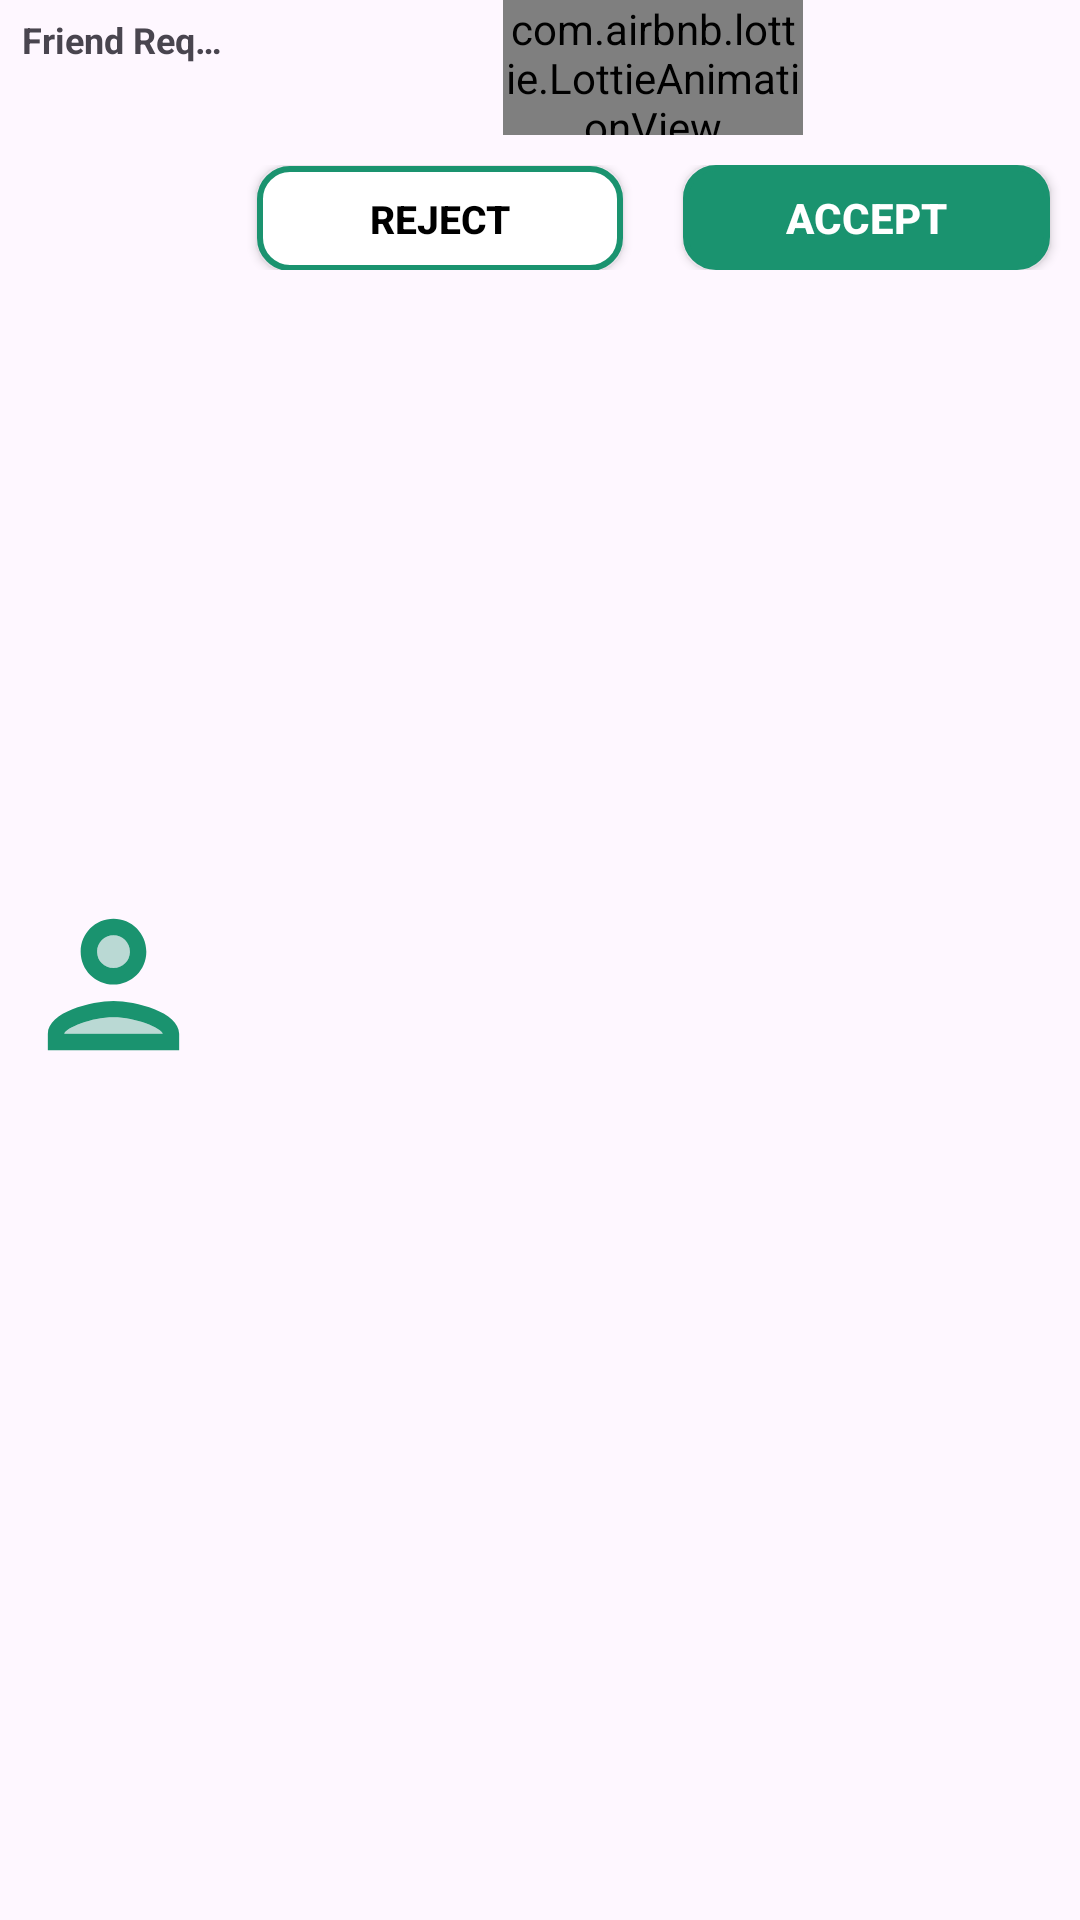

Point at icon controls on the screen. Image size 1080*1920, points as (x=x, y=y).
person: (x=113, y=984)
